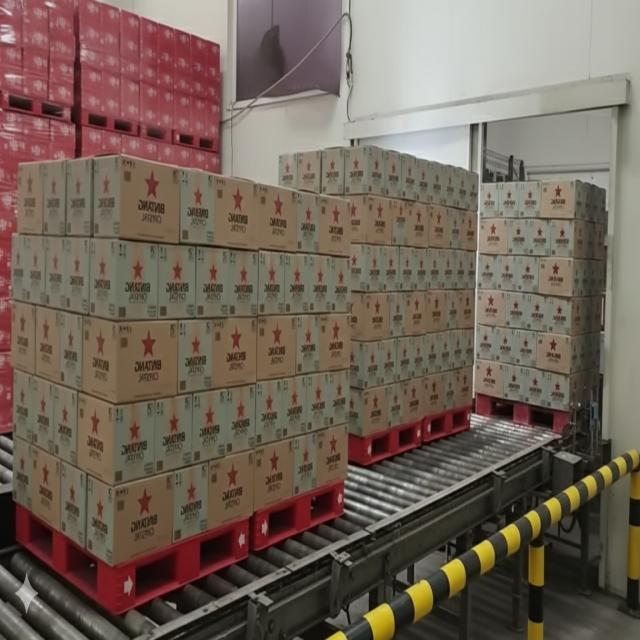pallet: (6, 145, 253, 625), (278, 132, 425, 476), (249, 158, 356, 564), (474, 169, 604, 446), (420, 139, 482, 457)
